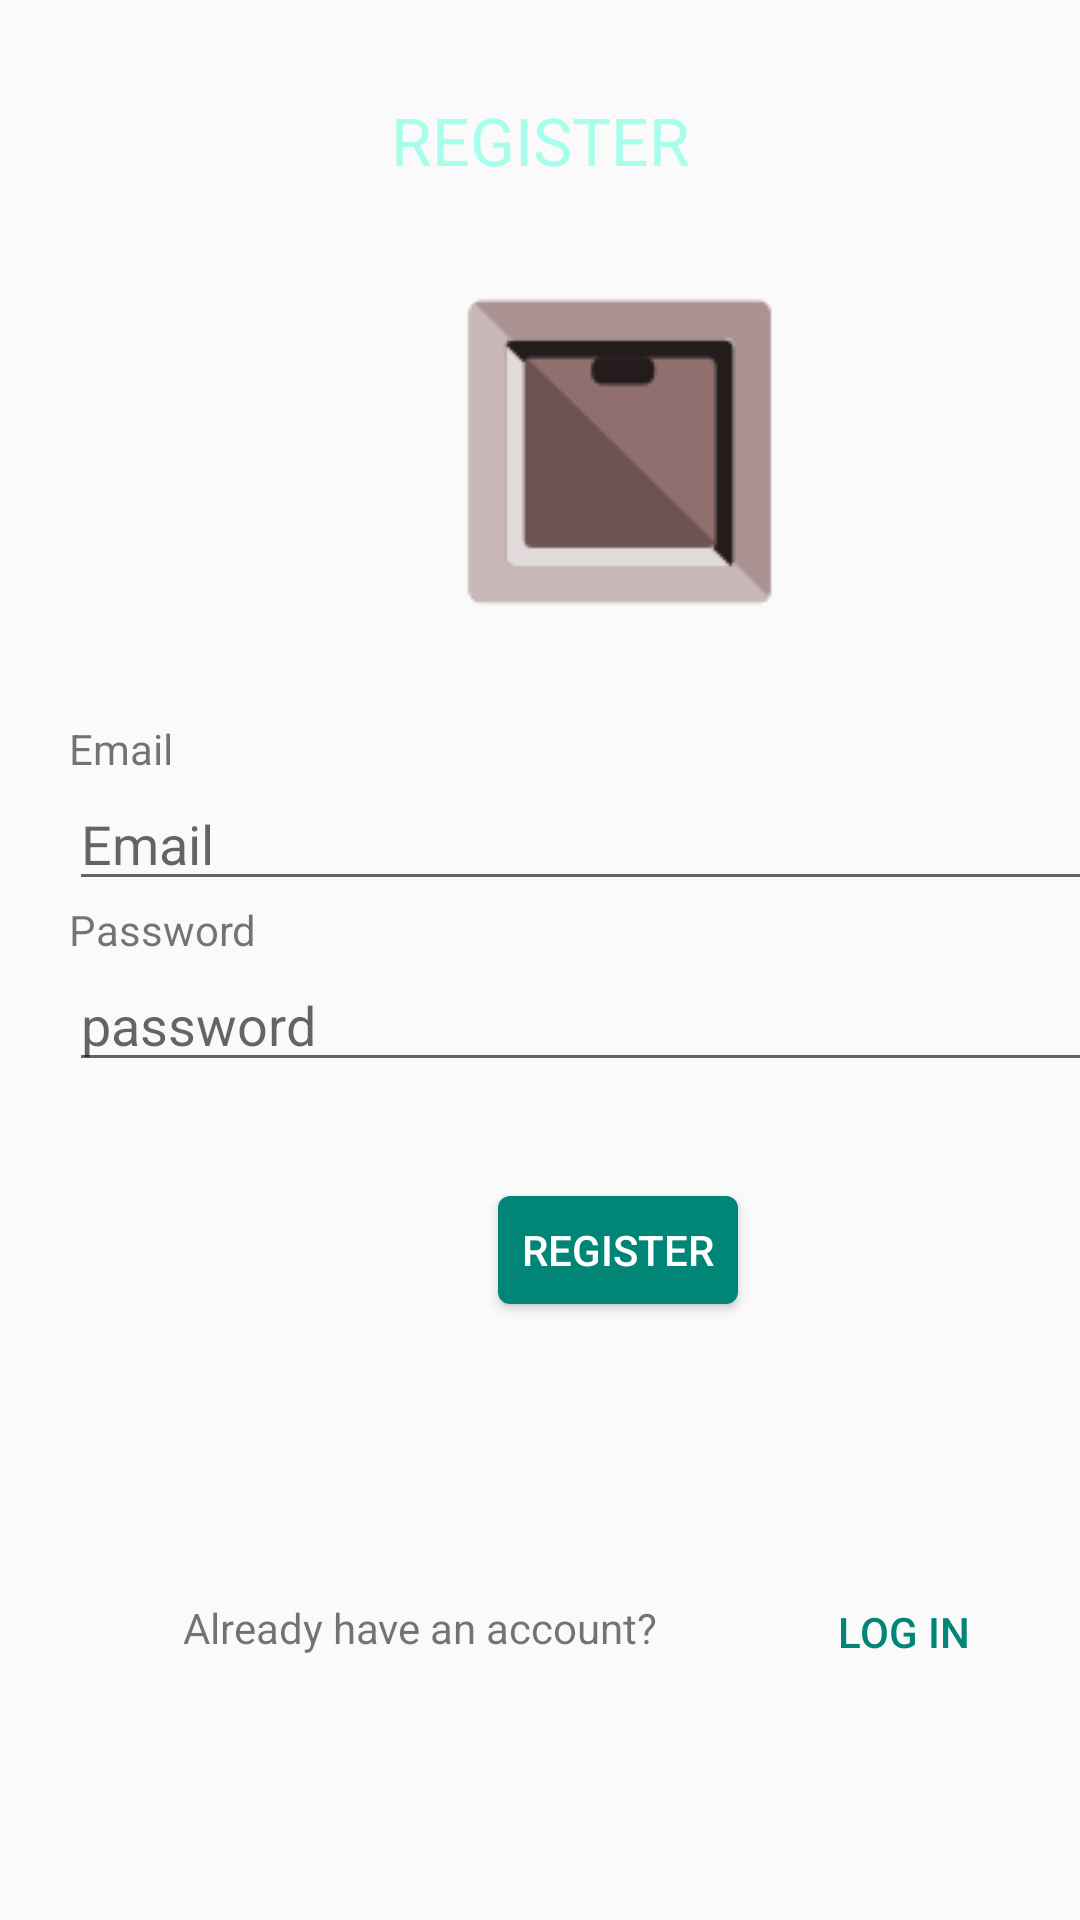

Icon bounding boxes for this 1080×1920 phone screenshot, format bbox(x1, y1, x2, y2):
box: bbox(468, 300, 772, 603)
